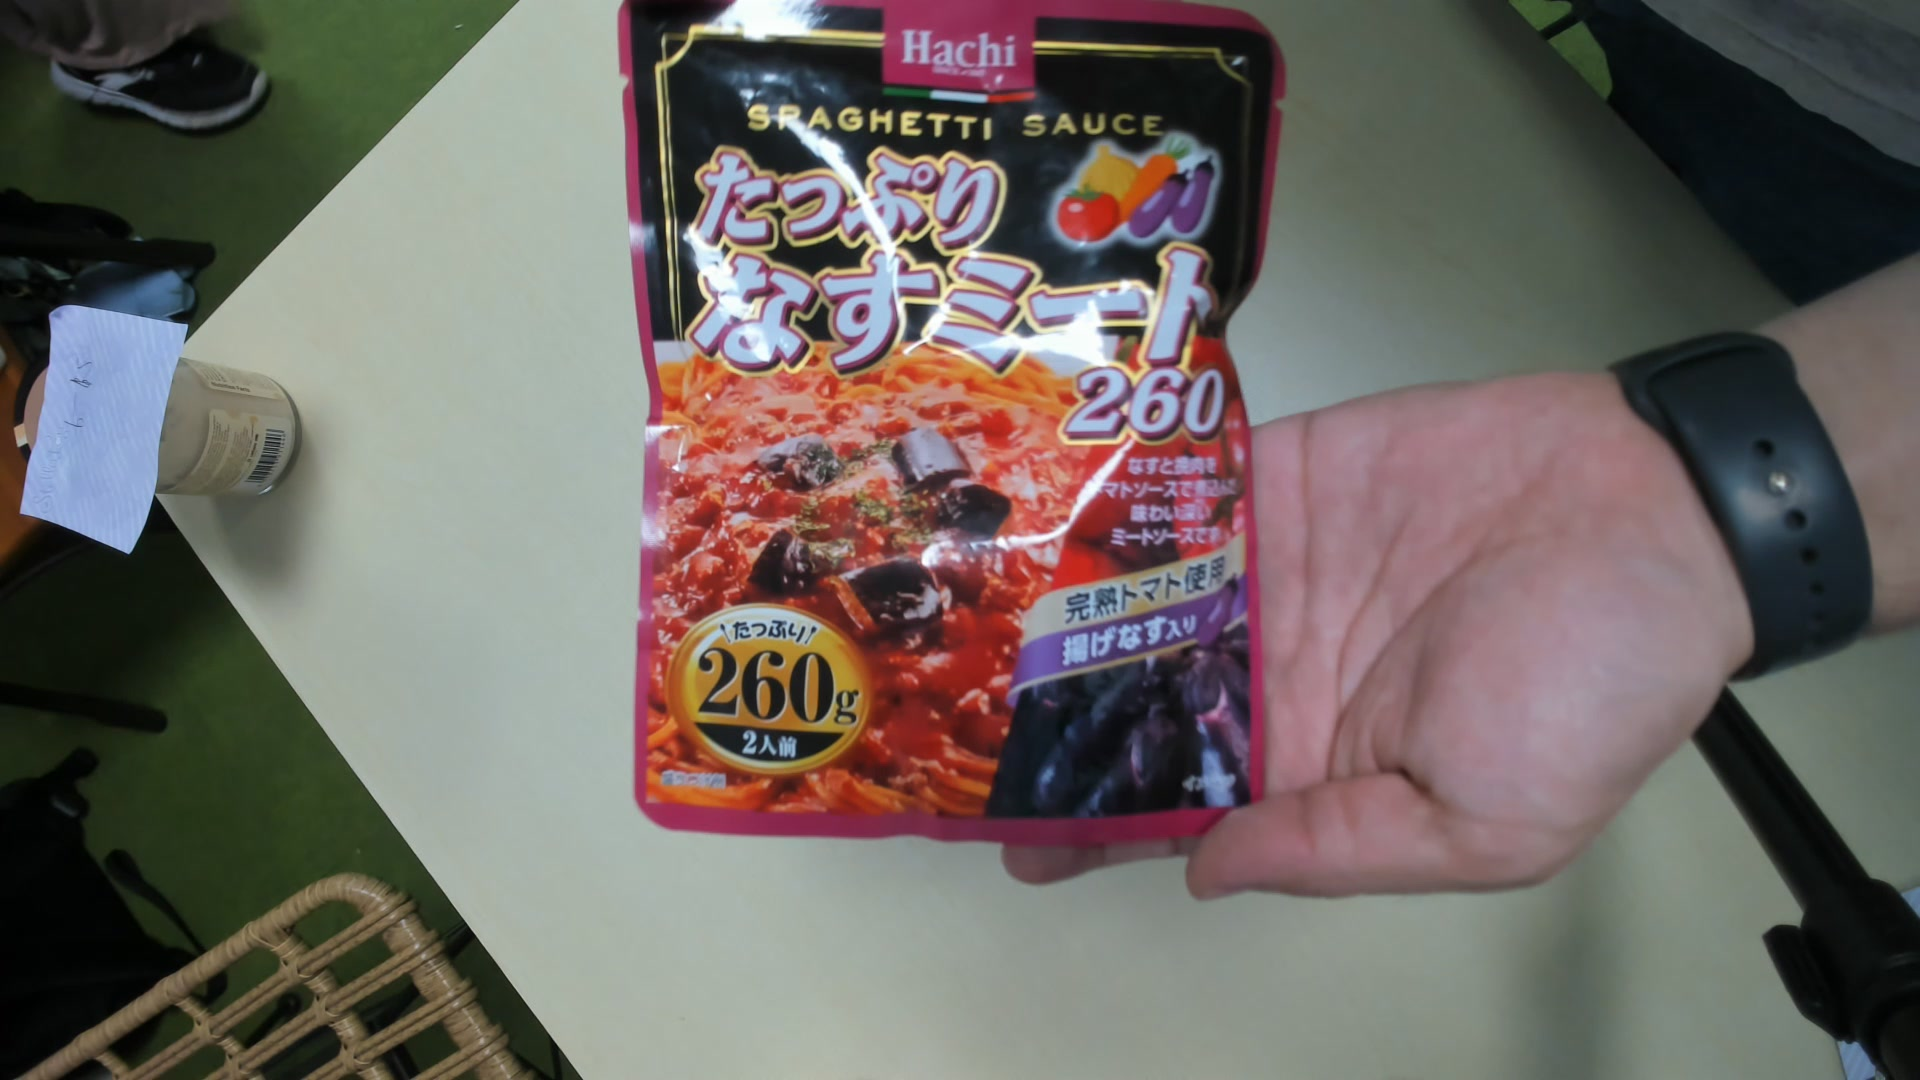PastaSauce_200-299g_NonHalal_NonHealthy: (622, 5, 1262, 833)
